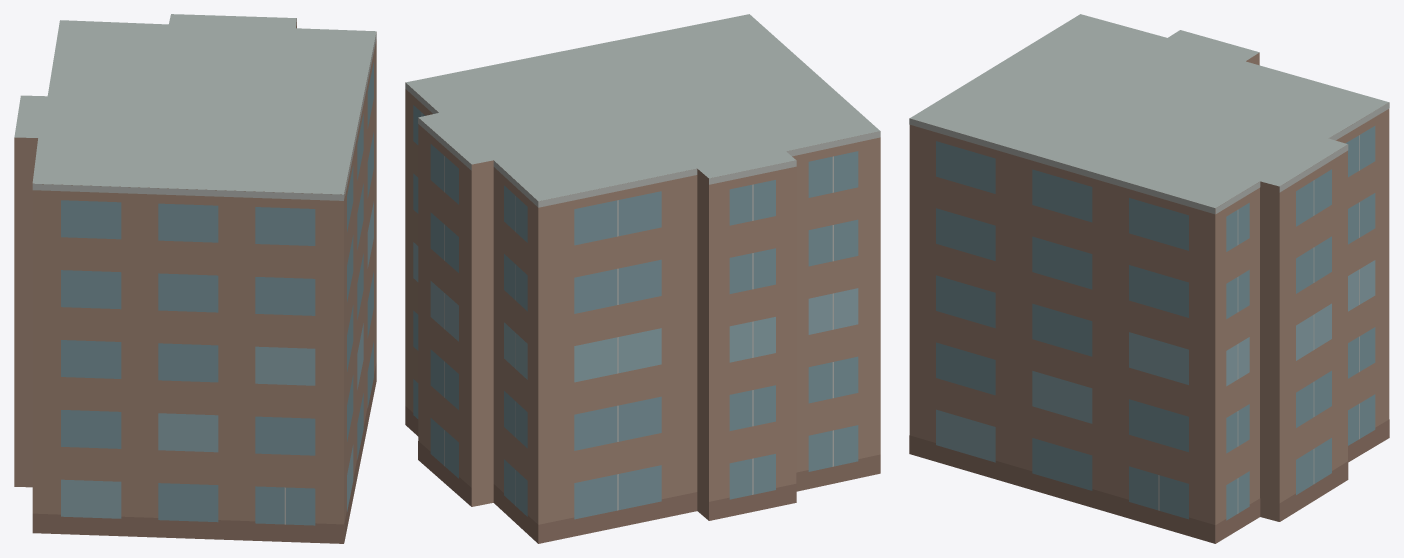
The model's file is survey-upis-33013575.glb.
3 renders of one model, left to right at view 1: azimuth 30°, elevation 25°; view 2: azimuth 150°, elevation 25°; view 3: azimuth 270°, elevation 25°, orthographic. The views are drawn at different scales.
Visible parts, largest first — view 1: survey-upis-33013575.tmp; view 2: survey-upis-33013575.tmp; view 3: survey-upis-33013575.tmp.
Part boxes in pixels (left/top/right/bottom): survey-upis-33013575.tmp: left=14, top=14, right=376, bottom=543; survey-upis-33013575.tmp: left=405, top=14, right=880, bottom=543; survey-upis-33013575.tmp: left=909, top=14, right=1389, bottom=543.
Bounding box in the file's own units: 16.39 × 13.2 × 17.11.
